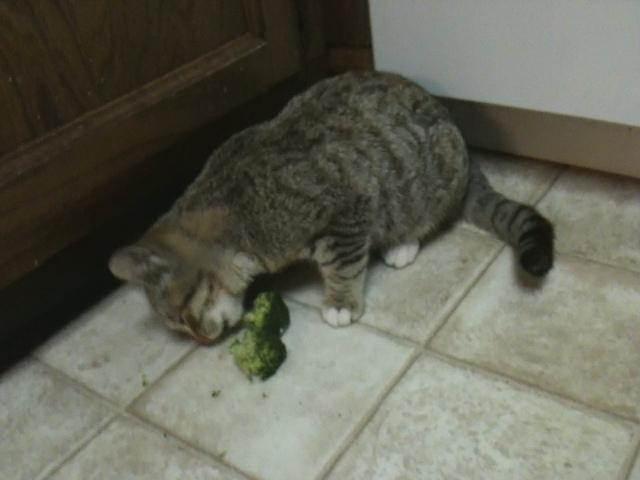broccoli: (228, 327, 286, 383)
